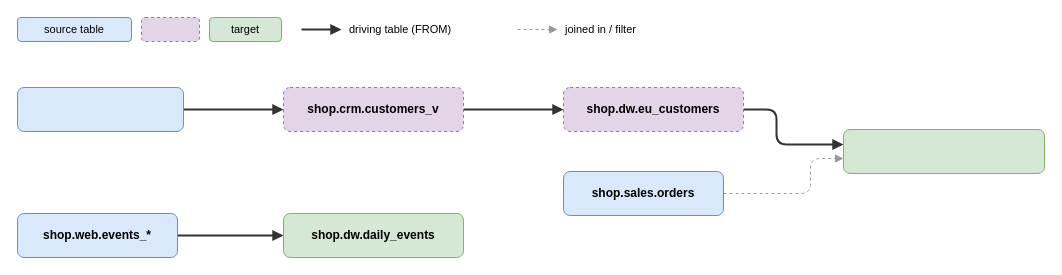
Some shapes in this 1062 by 275 pixel diagram are drawn without their labels. Each missing label, with the centre of its shape:
shop.crm.customers: the point at 100,109
shop.dw.eu_order_counts: the point at 943,151
view: the point at 170,29
